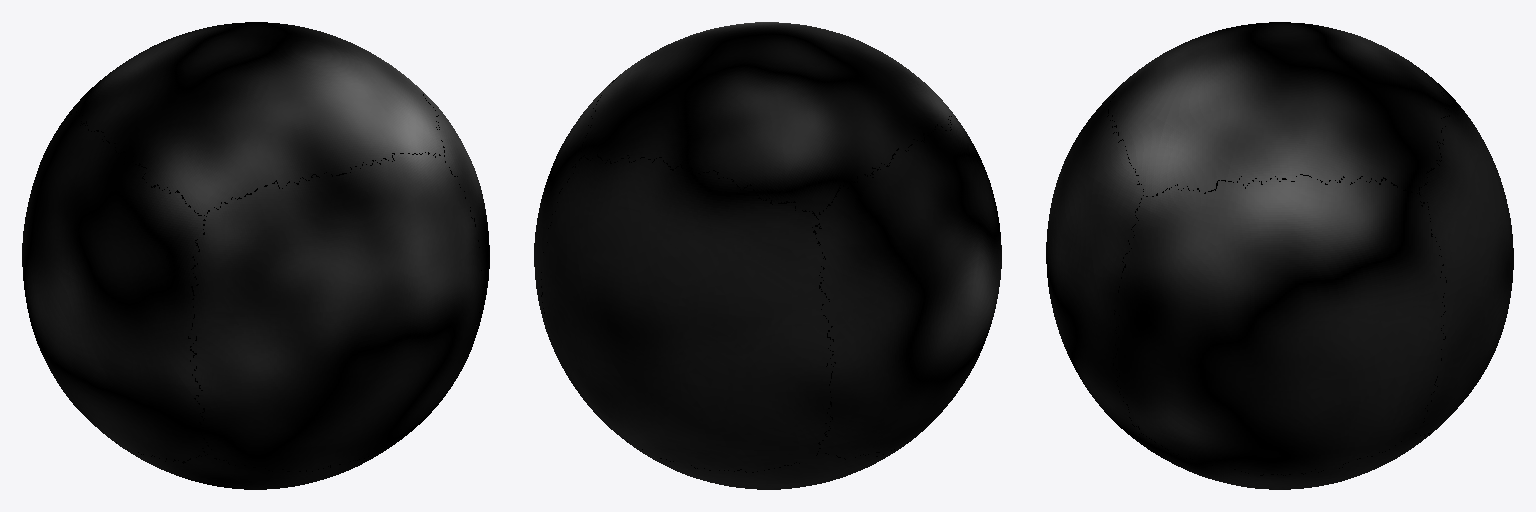
The picture shows the model from 3 angles: view 1: azimuth 30°, elevation 25°; view 2: azimuth 150°, elevation 25°; view 3: azimuth 270°, elevation 25°; orthographic projection.
Visible parts, largest first — view 1: F3:GeoDome1; view 2: F3:GeoDome1; view 3: F3:GeoDome1.
Part boxes in pixels (left/top/right/bottom): F3:GeoDome1: left=22, top=22, right=489, bottom=489; F3:GeoDome1: left=534, top=22, right=1001, bottom=489; F3:GeoDome1: left=1046, top=22, right=1513, bottom=489.
Size of the model in its own units: 5.79 by 5.83 by 5.79.
1 materials, 1 textured.